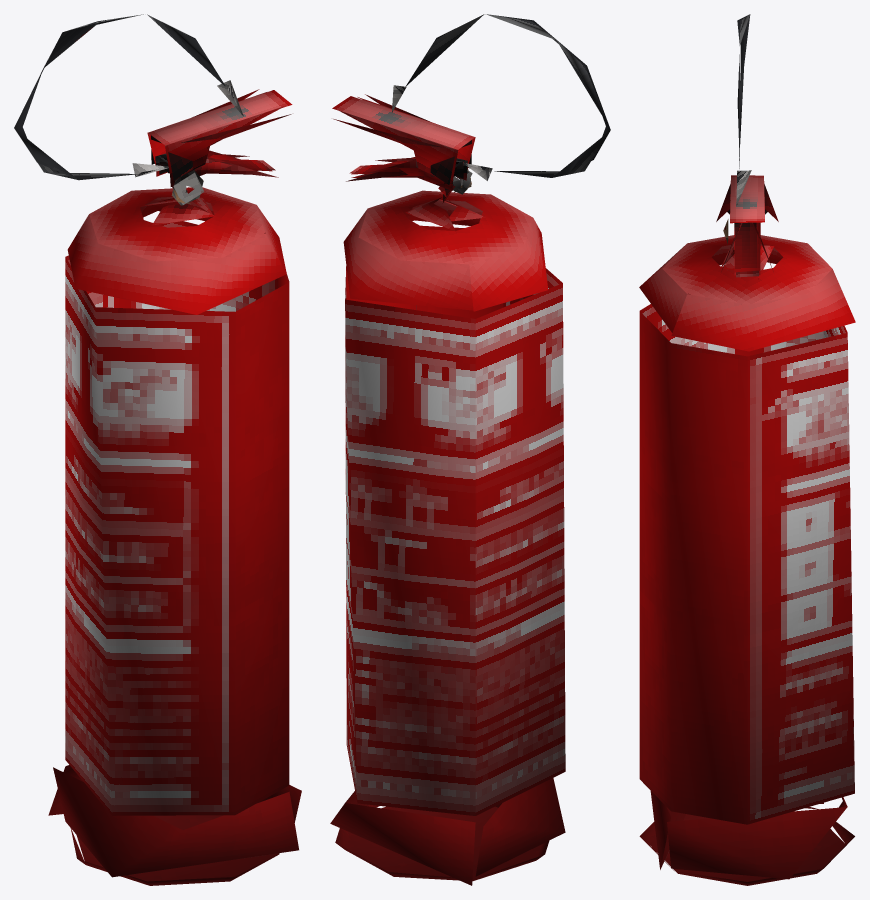
Rendered from fire_extinguisher.glb.
The picture shows the model from 3 angles, left to right: view 1: azimuth 30°, elevation 25°; view 2: azimuth 150°, elevation 25°; view 3: azimuth 270°, elevation 25°; orthographic projection. The views are drawn at different scales.
Visible parts, largest first — view 1: FireExtinguisher.001; view 2: FireExtinguisher.001; view 3: FireExtinguisher.001.
Boxes of the visible parts, bbox=[...] form: FireExtinguisher.001: bbox=[14, 14, 301, 885]; FireExtinguisher.001: bbox=[330, 14, 610, 885]; FireExtinguisher.001: bbox=[639, 14, 855, 885].
Size of the model in its own units: 0.2701 by 0.8037 by 0.2009.
Materials: 1 (1 with a texture image).
